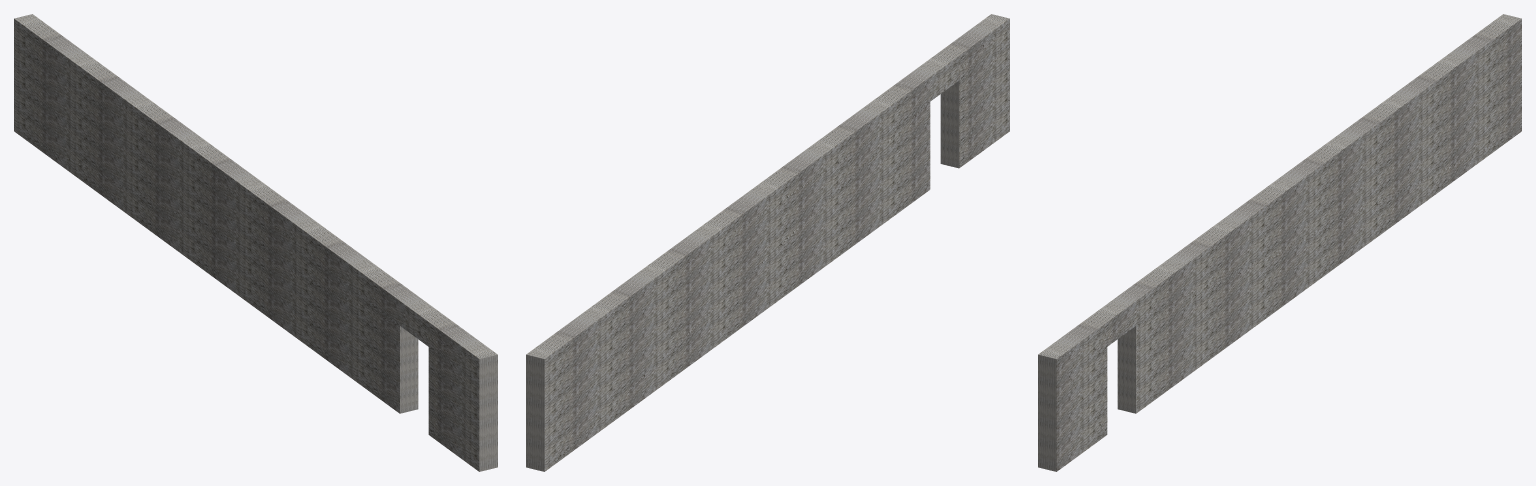
File: wall1.fbx
3 renders of one model, left to right at view 1: azimuth 30°, elevation 25°; view 2: azimuth 150°, elevation 25°; view 3: azimuth 330°, elevation 25°, orthographic.
Parts seen in each view (by area): view 1: Cube; view 2: Cube; view 3: Cube.
Boxes of the visible parts, x1,y1,x2,y2 form: Cube: [14, 14, 497, 471]; Cube: [526, 14, 1009, 471]; Cube: [1038, 14, 1521, 471].
Bounding box in the file's own units: 34.38 × 200 × 1494.
1 material, 1 textured.
